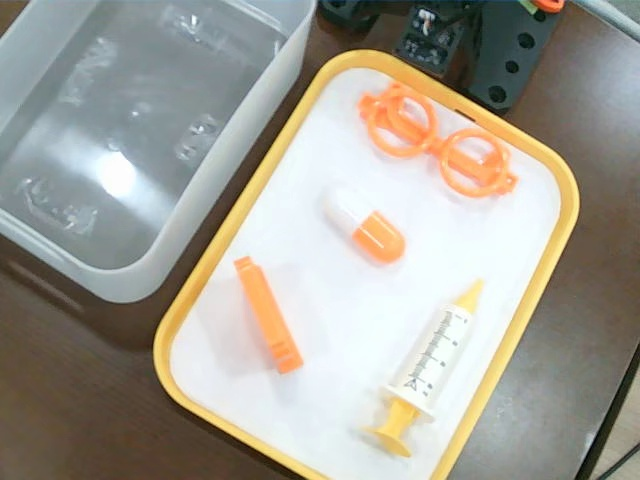pill: (321, 187, 407, 268)
syringe: (361, 283, 489, 457)
